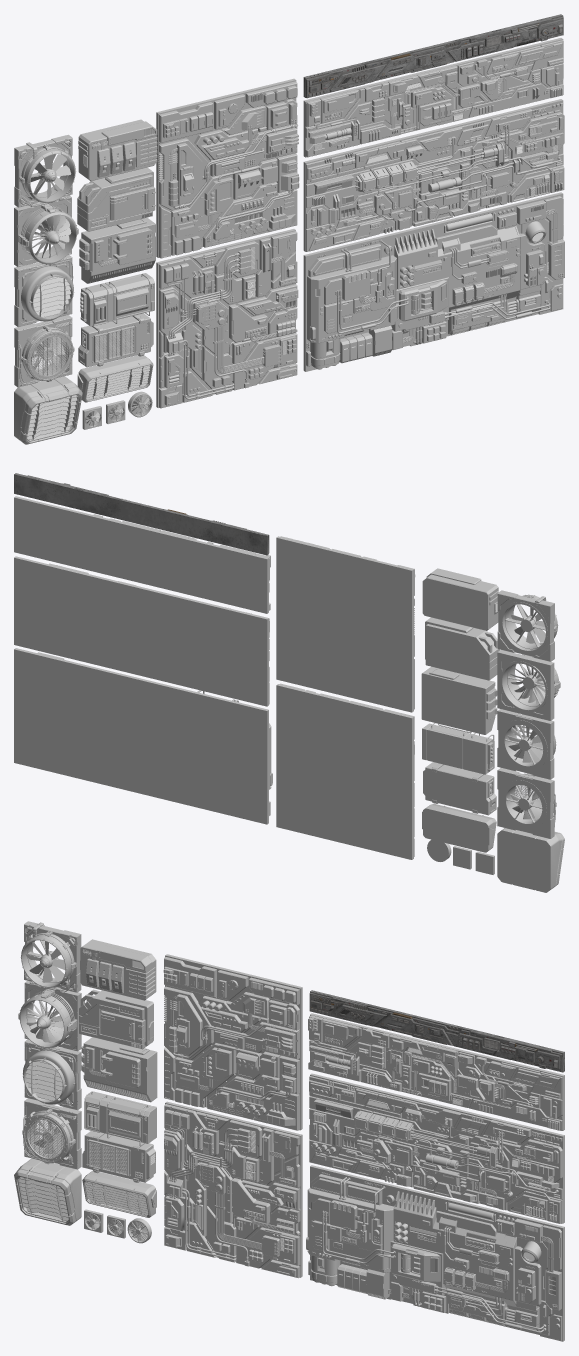
Rendered from Sci-Fi Parts Kit Pack vol 03.obj.
The picture shows the model from 3 angles, top to bottom: view 1: azimuth 30°, elevation 25°; view 2: azimuth 150°, elevation 25°; view 3: azimuth 330°, elevation 25°; orthographic projection.
Visible parts, largest first — view 1: SF_PP03_S_001, SF_PP03_R_001, SF_PP03_N_001, SF_PP03_M_001, SF_PP03_S_002, SF_PP03_Q_001, SF_PP03_R_002, SF_PP03_M_002, SF_PP03_N_002, SF_PP03_Q_002, SF_PP03_P_001, SF_PP03_H_001 (+24 smaller); view 2: SF_PP03_S_001, SF_PP03_R_001, SF_PP03_N_001, SF_PP03_M_001, SF_PP03_Q_001, SF_PP03_P_001, SF_PP03_H_001, SF_PP03_F_001, SF_PP03_E_001, SF_PP03_G_001, SF_PP03_J_001, SF_PP03_I_001 (+11 smaller); view 3: SF_PP03_S_001, SF_PP03_R_001, SF_PP03_N_001, SF_PP03_M_001, SF_PP03_S_002, SF_PP03_Q_001, SF_PP03_R_002, SF_PP03_M_002, SF_PP03_N_002, SF_PP03_Q_002, SF_PP03_P_001, SF_PP03_H_001 (+24 smaller).
Part boxes in pixels (bbox=[...]): SF_PP03_S_001: bbox=[303, 192, 564, 371]; SF_PP03_R_001: bbox=[303, 99, 564, 251]; SF_PP03_N_001: bbox=[156, 229, 297, 408]; SF_PP03_M_001: bbox=[156, 78, 297, 258]; SF_PP03_S_002: bbox=[306, 205, 563, 369]; SF_PP03_Q_001: bbox=[303, 38, 563, 157]; SF_PP03_R_002: bbox=[310, 103, 563, 244]; SF_PP03_M_002: bbox=[158, 85, 299, 257]; SF_PP03_N_002: bbox=[159, 236, 298, 405]; SF_PP03_Q_002: bbox=[308, 50, 563, 154]; SF_PP03_P_001: bbox=[303, 14, 563, 98]; SF_PP03_H_001: bbox=[79, 217, 155, 283]; SF_PP03_S_001: bbox=[14, 648, 271, 824]; SF_PP03_R_001: bbox=[14, 556, 269, 706]; SF_PP03_N_001: bbox=[276, 683, 414, 859]; SF_PP03_M_001: bbox=[276, 536, 414, 712]; SF_PP03_Q_001: bbox=[14, 496, 270, 613]; SF_PP03_P_001: bbox=[14, 473, 269, 555]; SF_PP03_H_001: bbox=[421, 666, 497, 734]; SF_PP03_F_001: bbox=[422, 568, 498, 630]; SF_PP03_E_001: bbox=[497, 828, 564, 892]; SF_PP03_G_001: bbox=[425, 617, 499, 680]; SF_PP03_J_001: bbox=[423, 762, 496, 815]; SF_PP03_I_001: bbox=[422, 723, 494, 774]; SF_PP03_S_001: bbox=[307, 1165, 564, 1341]; SF_PP03_R_001: bbox=[309, 1073, 564, 1223]; SF_PP03_N_001: bbox=[164, 1101, 302, 1278]; SF_PP03_M_001: bbox=[164, 954, 302, 1130]; SF_PP03_S_002: bbox=[306, 1172, 560, 1328]; SF_PP03_Q_001: bbox=[308, 1013, 564, 1130]; SF_PP03_R_002: bbox=[310, 1080, 562, 1222]; SF_PP03_M_002: bbox=[163, 966, 296, 1126]; SF_PP03_N_002: bbox=[164, 1109, 299, 1277]; SF_PP03_Q_002: bbox=[308, 1017, 562, 1130]; SF_PP03_P_001: bbox=[309, 990, 564, 1072]; SF_PP03_H_001: bbox=[81, 1037, 157, 1102].
Size of the model in its own units: 1189 by 613 by 63.94.
